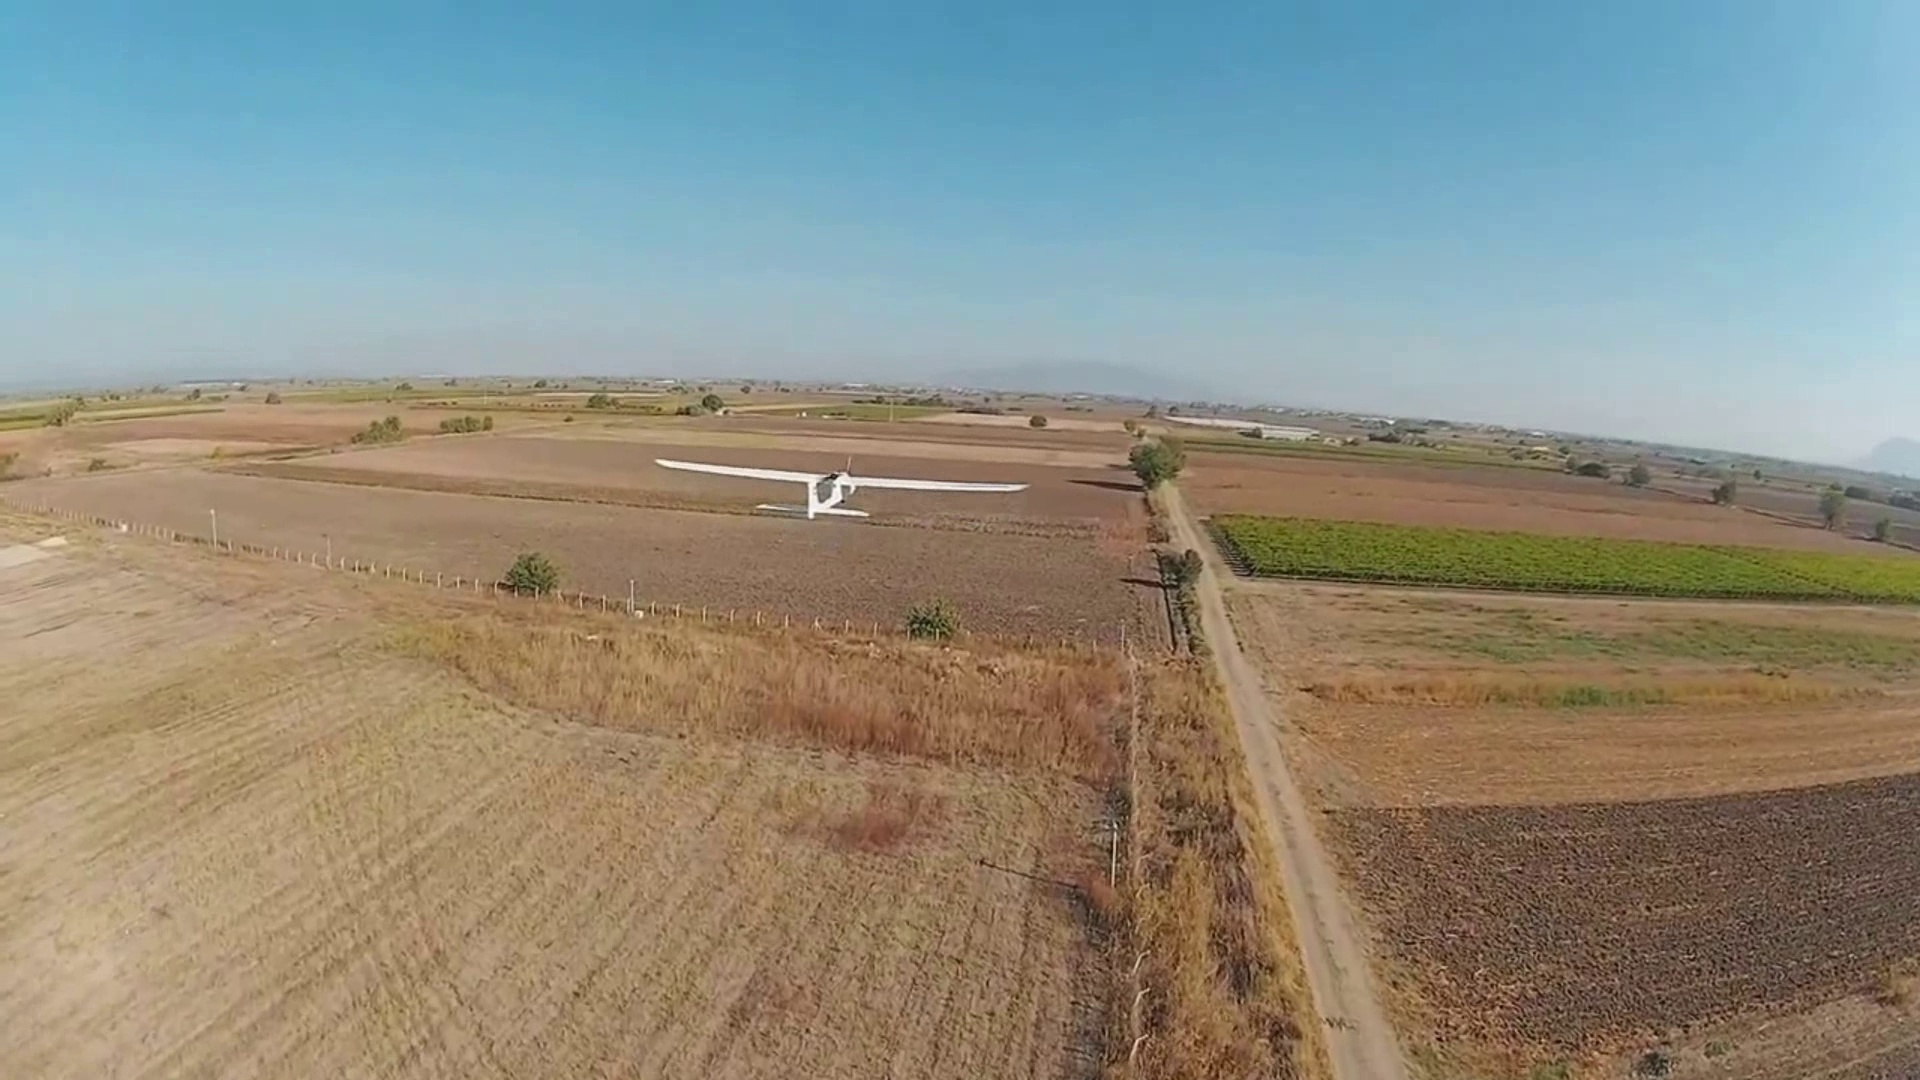airplane: (651, 450, 1029, 523)
